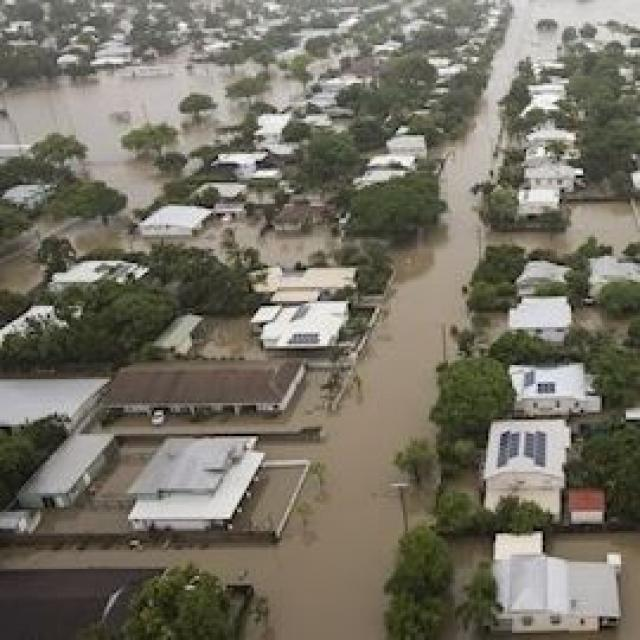flood: (0, 0, 640, 640), (0, 65, 225, 208), (0, 215, 128, 294), (549, 533, 640, 640), (490, 201, 640, 254), (222, 215, 342, 266), (263, 64, 305, 112)
house: (125, 435, 287, 534), (110, 354, 310, 416), (492, 547, 622, 636), (479, 414, 568, 522), (12, 431, 118, 508), (0, 374, 111, 441), (506, 361, 604, 418), (252, 304, 358, 354), (244, 262, 363, 304), (44, 254, 149, 294), (0, 302, 66, 355), (508, 294, 579, 342), (587, 253, 640, 300), (139, 202, 210, 236), (514, 258, 573, 297), (566, 486, 610, 530)
